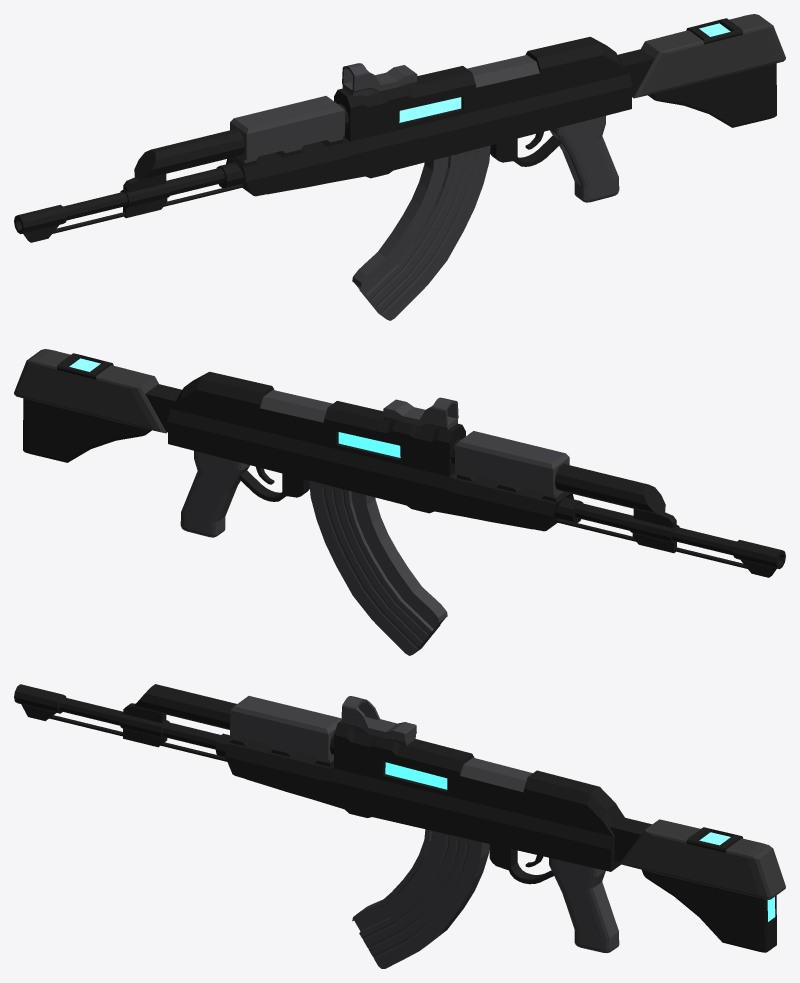
3 renders of one model, top to bottom at view 1: azimuth 30°, elevation 25°; view 2: azimuth 150°, elevation 25°; view 3: azimuth 330°, elevation 25°, orthographic.
Parts seen in each view (by area): view 1: Base.004, Back Handle.002, Magazine.004, Barrel.004, Slide.004, Handle.004, Top Barrel.004, Cube.005, Trigger.004, Small Barrel.004; view 2: Base.004, Back Handle.002, Magazine.004, Barrel.004, Slide.004, Handle.004, Top Barrel.004, Cube.005, Trigger.004, Small Barrel.004; view 3: Base.004, Back Handle.002, Magazine.004, Slide.004, Barrel.004, Handle.004, Top Barrel.004, Cube.005, Trigger.004, Small Barrel.004.
Part boxes in pixels (bbox=[...]): Base.004: bbox=[226, 36, 631, 196]; Back Handle.002: bbox=[618, 14, 785, 127]; Magazine.004: bbox=[352, 145, 490, 320]; Barrel.004: bbox=[14, 162, 244, 242]; Slide.004: bbox=[230, 96, 344, 162]; Handle.004: bbox=[550, 116, 619, 202]; Top Barrel.004: bbox=[123, 103, 348, 192]; Cube.005: bbox=[342, 63, 417, 96]; Trigger.004: bbox=[490, 131, 561, 166]; Small Barrel.004: bbox=[52, 184, 243, 233]; Base.004: bbox=[168, 371, 573, 531]; Back Handle.002: bbox=[14, 349, 181, 462]; Magazine.004: bbox=[309, 480, 447, 655]; Barrel.004: bbox=[555, 497, 785, 577]; Slide.004: bbox=[455, 431, 569, 498]; Handle.004: bbox=[180, 451, 249, 537]; Top Barrel.004: bbox=[451, 438, 676, 527]; Cube.005: bbox=[383, 397, 458, 430]; Trigger.004: bbox=[238, 466, 309, 501]; Small Barrel.004: bbox=[556, 519, 747, 568]; Base.004: bbox=[225, 721, 624, 871]; Back Handle.002: bbox=[610, 817, 785, 952]; Magazine.004: bbox=[352, 829, 489, 968]; Slide.004: bbox=[230, 696, 341, 762]; Barrel.004: bbox=[14, 684, 231, 757]; Handle.004: bbox=[549, 857, 619, 952]; Top Barrel.004: bbox=[123, 684, 334, 754]; Cube.005: bbox=[341, 696, 416, 745]; Trigger.004: bbox=[489, 844, 553, 884]; Small Barrel.004: bbox=[49, 715, 227, 761].
Size of the model in its own units: 664 by 217 by 31.9.
